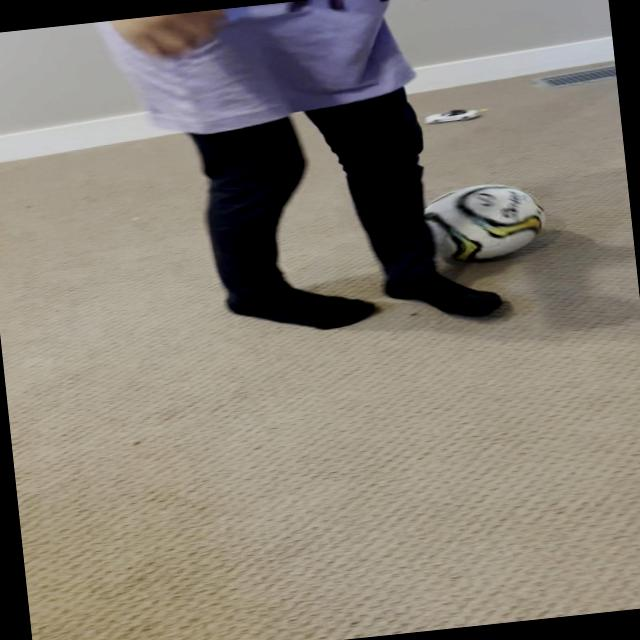Soccer Ball: (407, 175, 552, 268)
